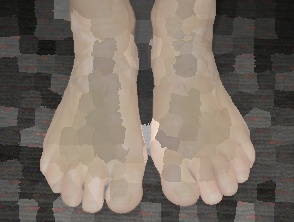vitiligo: (114, 0, 269, 218), (38, 0, 150, 216)
